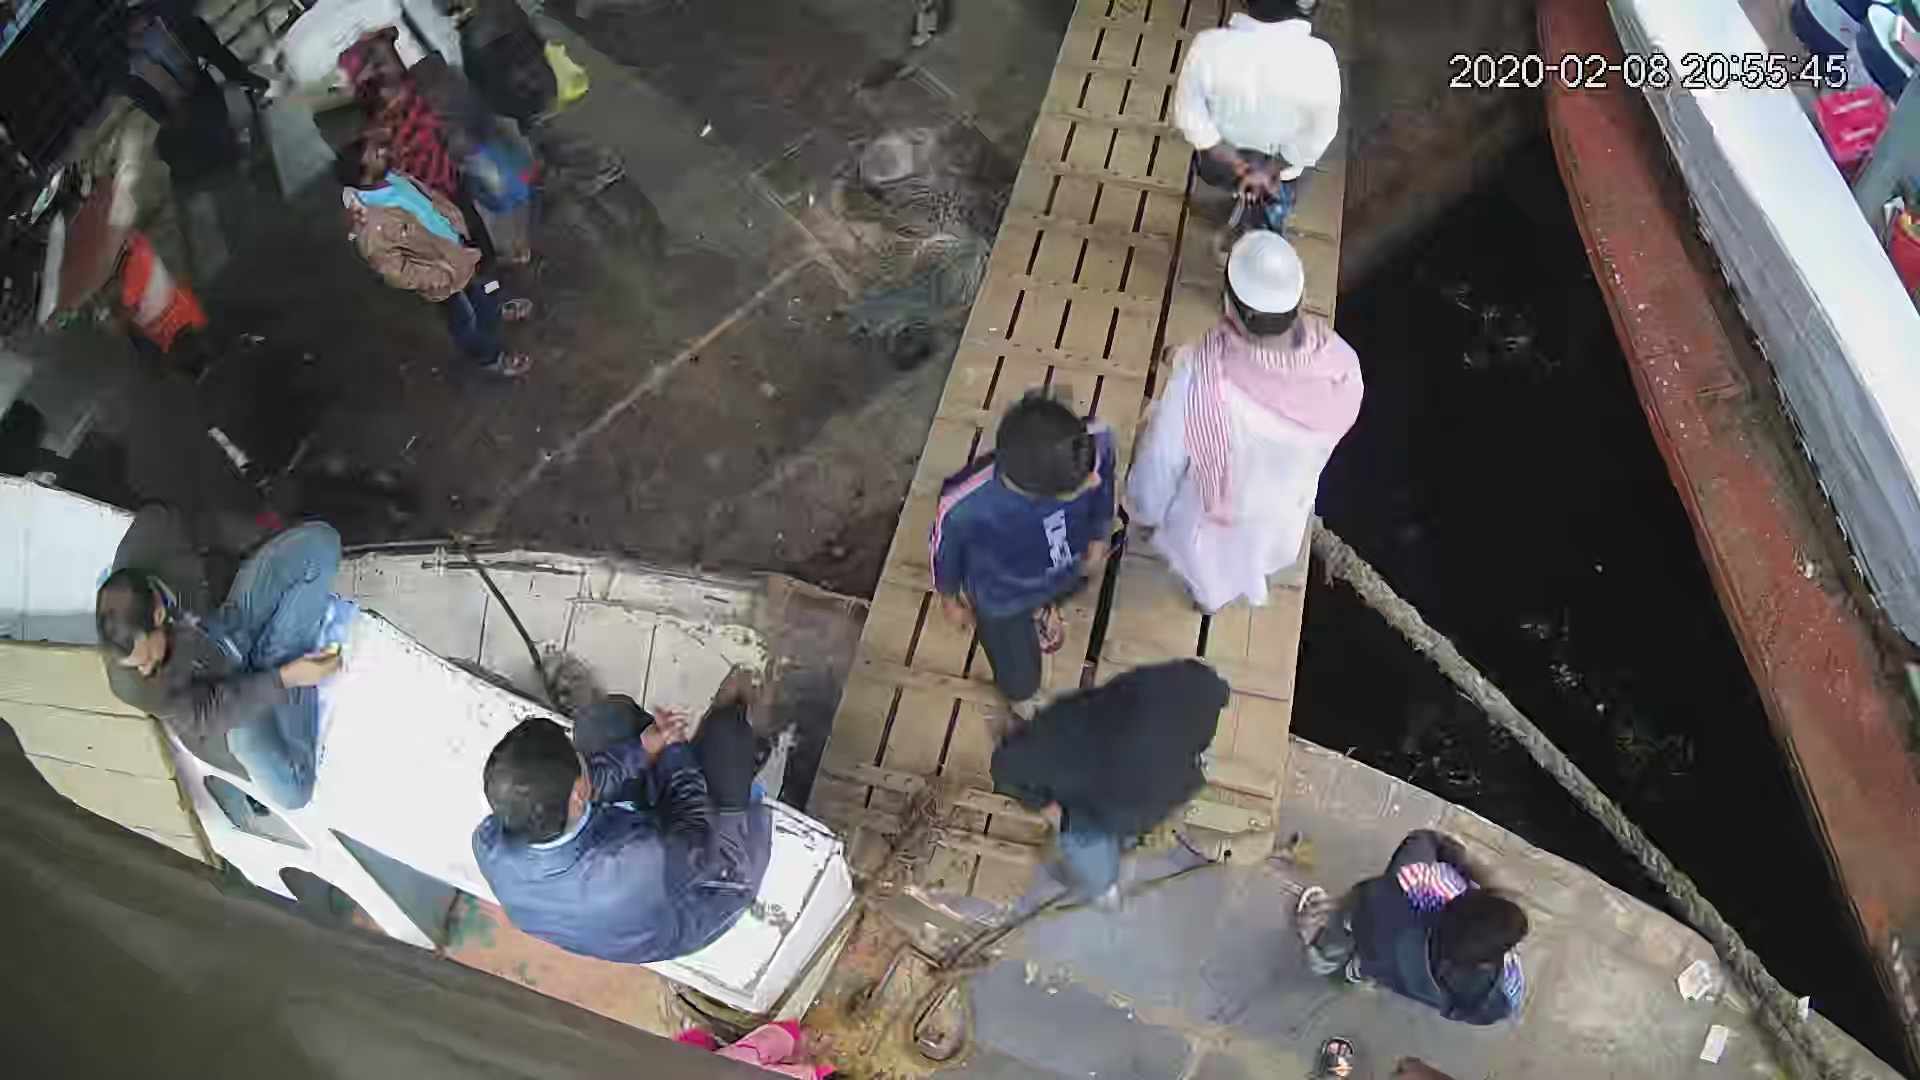person: (467, 661, 782, 970), (1124, 221, 1368, 616), (91, 500, 346, 816), (984, 650, 1234, 919), (920, 396, 1128, 700), (325, 136, 547, 387), (1292, 824, 1536, 1028), (1163, 1, 1346, 227), (434, 3, 633, 191)
